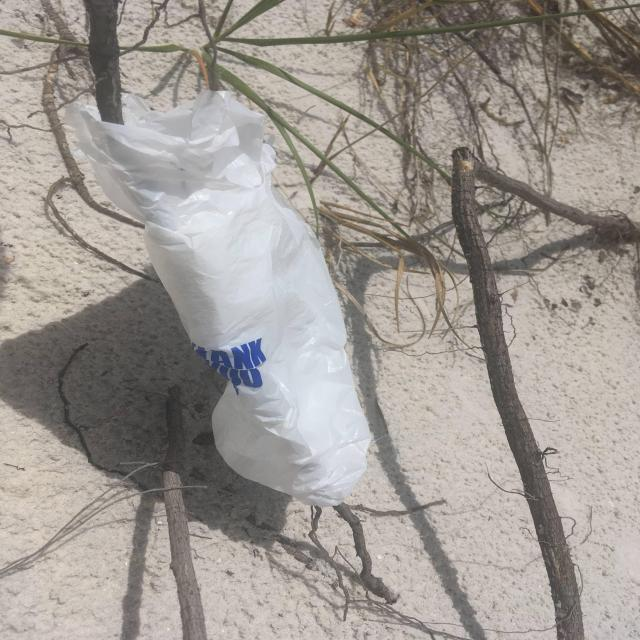litter: (63, 89, 372, 508)
